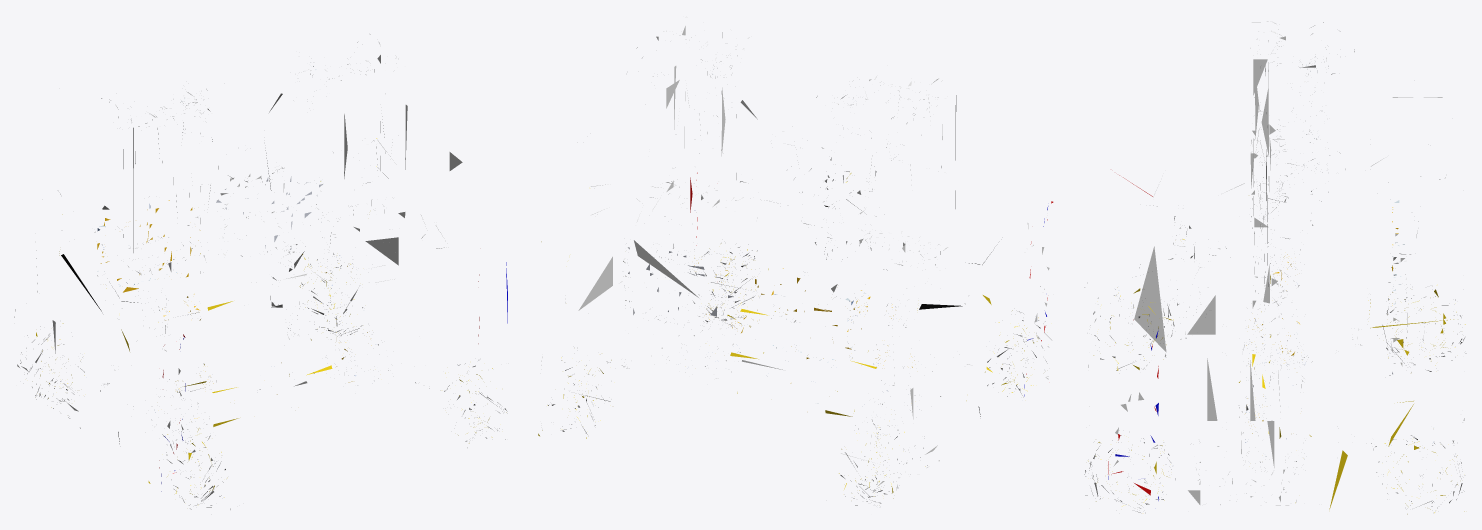
File: Assembly 1 - Into the Deep-fresh-low.glb
3 renders of one model, left to right at view 1: azimuth 30°, elevation 25°; view 2: azimuth 150°, elevation 25°; view 3: azimuth 270°, elevation 25°, orthographic. The views are drawn at different scales.
Visible parts, largest first — view 1: world; view 2: world; view 3: world.
Boxes of the visible parts, left/top/right/bottom form: world: left=14, top=34, right=507, bottom=509; world: left=538, top=26, right=1053, bottom=505; world: left=1084, top=21, right=1466, bottom=514.
Size of the model in its own units: 0.4036 by 0.4095 by 0.4001.
